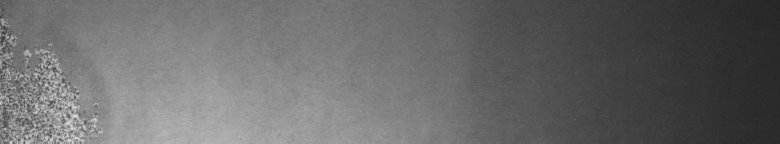hc: (4, 17, 104, 136)
